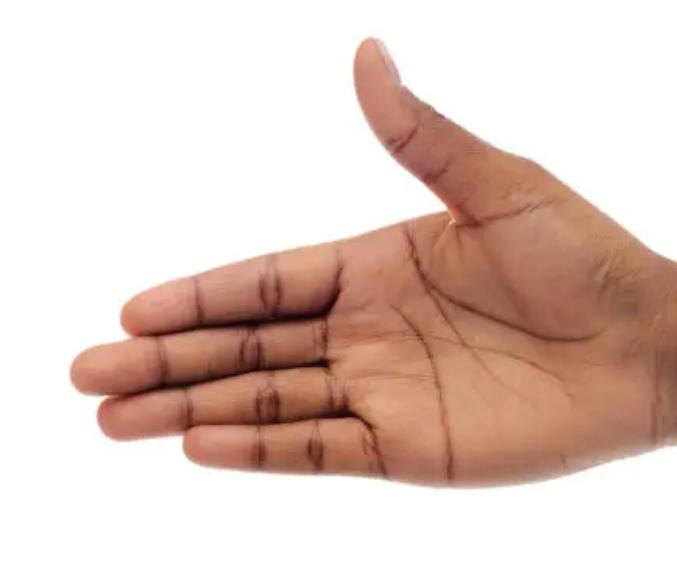family ring: (460, 196, 567, 224)
fate line: (348, 330, 571, 387)
head line: (419, 266, 506, 390)
heart line: (388, 305, 452, 480)
life line: (405, 225, 617, 341)
